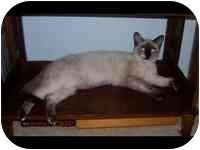siamese: (129, 29, 169, 66)
